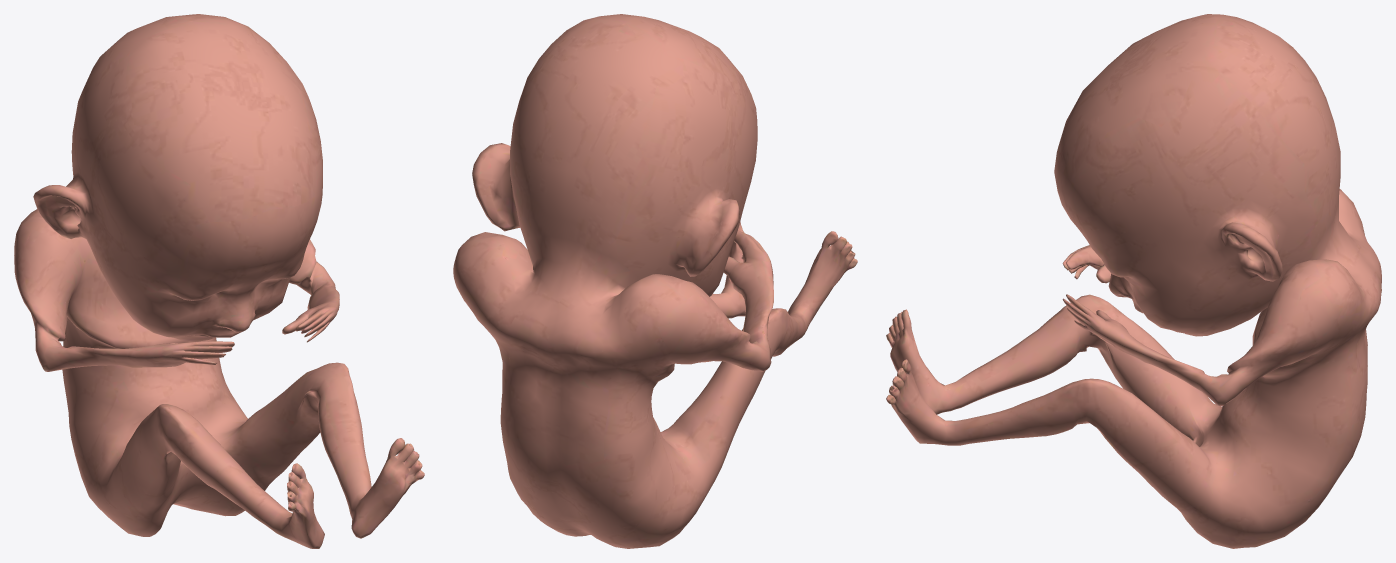
3 renders of one model, left to right at view 1: azimuth 30°, elevation 25°; view 2: azimuth 150°, elevation 25°; view 3: azimuth 270°, elevation 25°, orthographic.
Visible parts, largest first — view 1: Baby; view 2: Baby; view 3: Baby.
Boxes of the visible parts, left/top/right/bottom form: Baby: left=14, top=14, right=424, bottom=548; Baby: left=453, top=14, right=857, bottom=548; Baby: left=886, top=14, right=1381, bottom=548.
Size of the model in its own units: 0.0768 by 0.1261 by 0.1129.
Materials: 1 (1 with a texture image).
